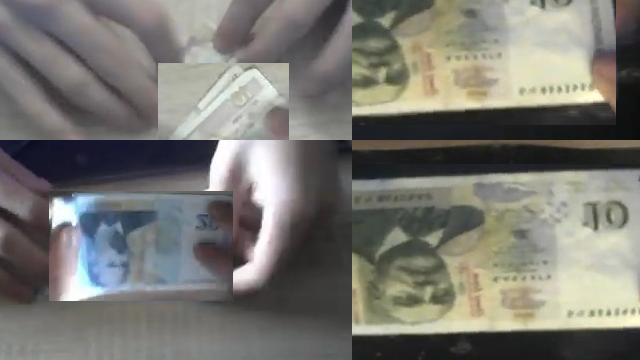10leva: (352, 164, 640, 360), (352, 0, 616, 125), (163, 63, 289, 140)
20leva: (49, 191, 233, 301)
